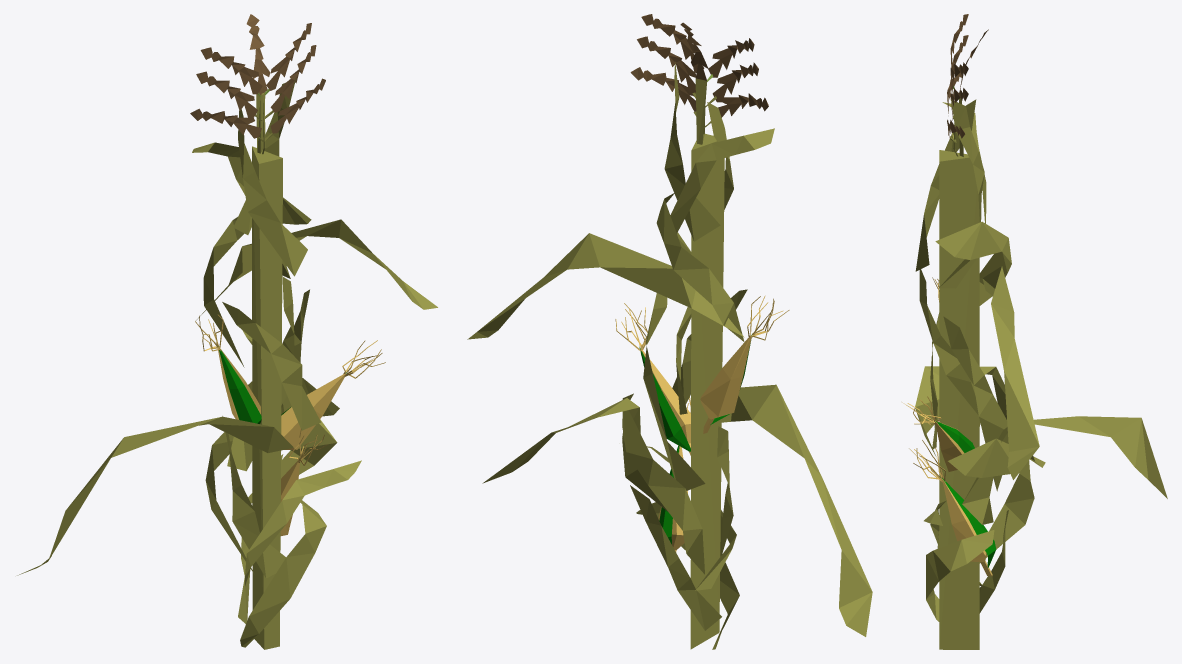
Rendered from Corn_5.fbx.
The picture shows the model from 3 angles, left to right: view 1: azimuth 30°, elevation 25°; view 2: azimuth 150°, elevation 25°; view 3: azimuth 270°, elevation 25°; orthographic projection.
Parts seen in each view (by area): view 1: Corn_5; view 2: Corn_5; view 3: Corn_5.
Boxes of the visible parts, x1,y1,x2,y2 form: Corn_5: (17, 14, 437, 649); Corn_5: (467, 14, 872, 649); Corn_5: (902, 14, 1167, 649).
Bounding box in the file's own units: 168 × 244 × 94.81.
